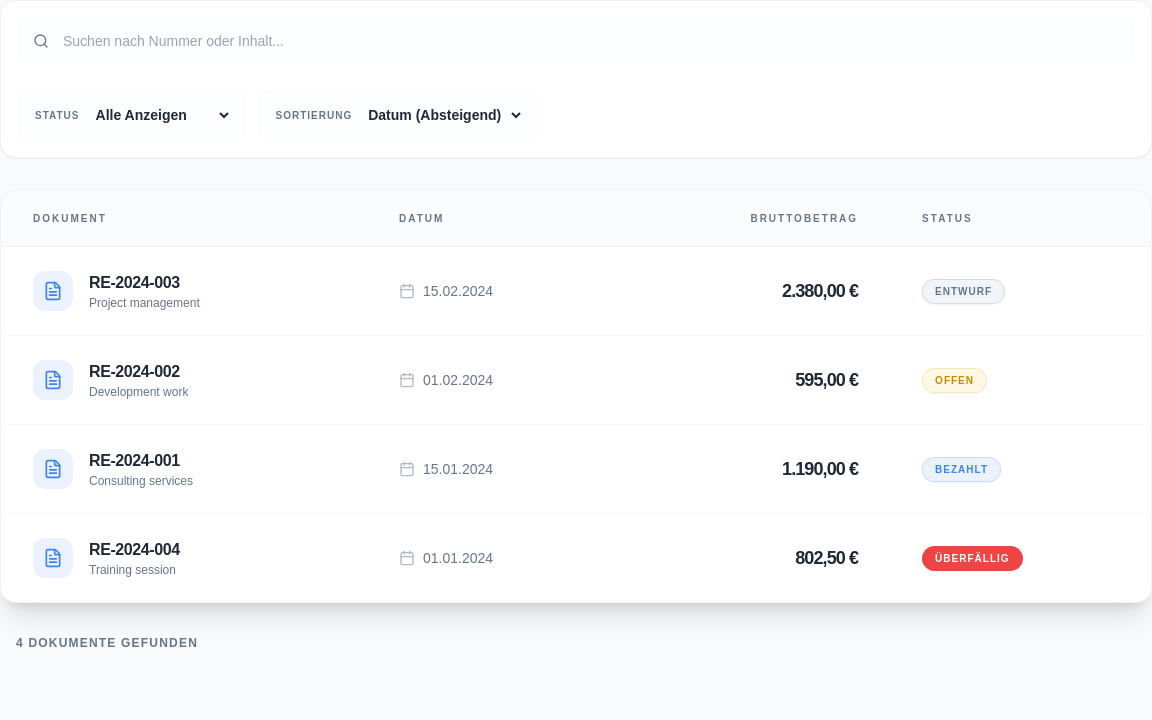
Test: InvoiceList › filtering › should filter by invoice number when searching
In the field with placeholder "Suchen nach Nummer oder Inhalt...": x=576, y=41 top-left (17, 17), bottom-right (1135, 65), type "003"
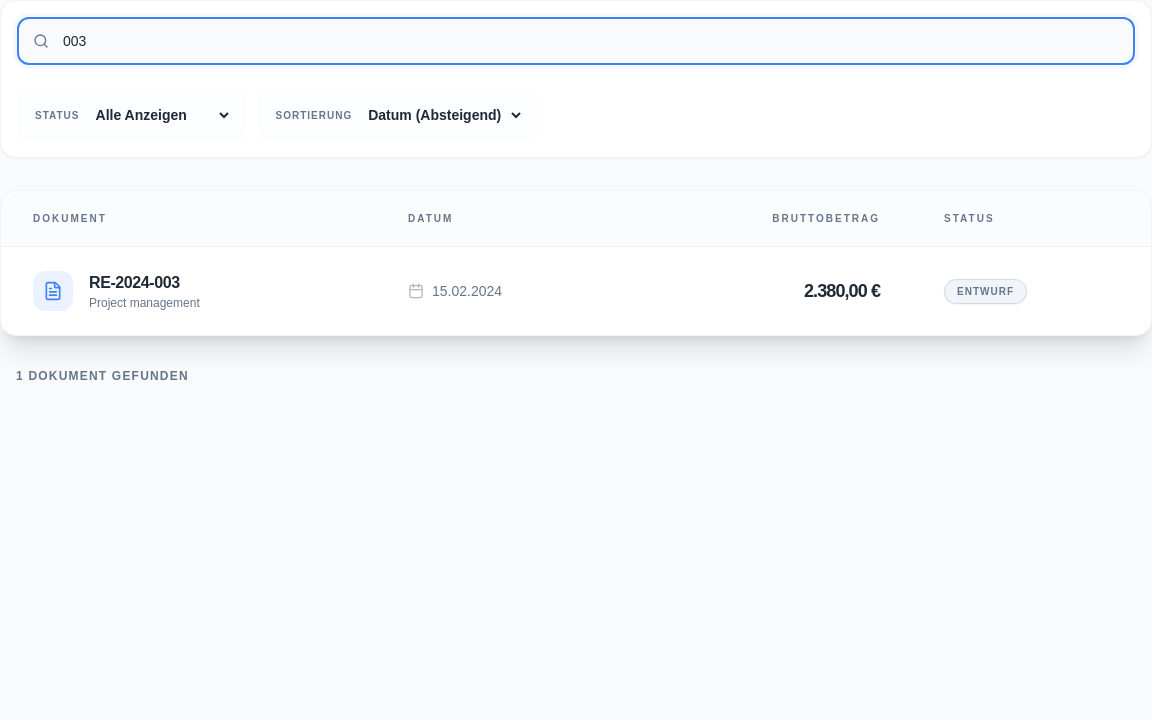
Check: the text "RE-2024-003" is shown, box top-left (89, 274), bottom-right (180, 291)
Check: the text "RE-2024-001" is gone
